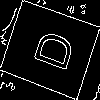D: (24, 24, 76, 74)
